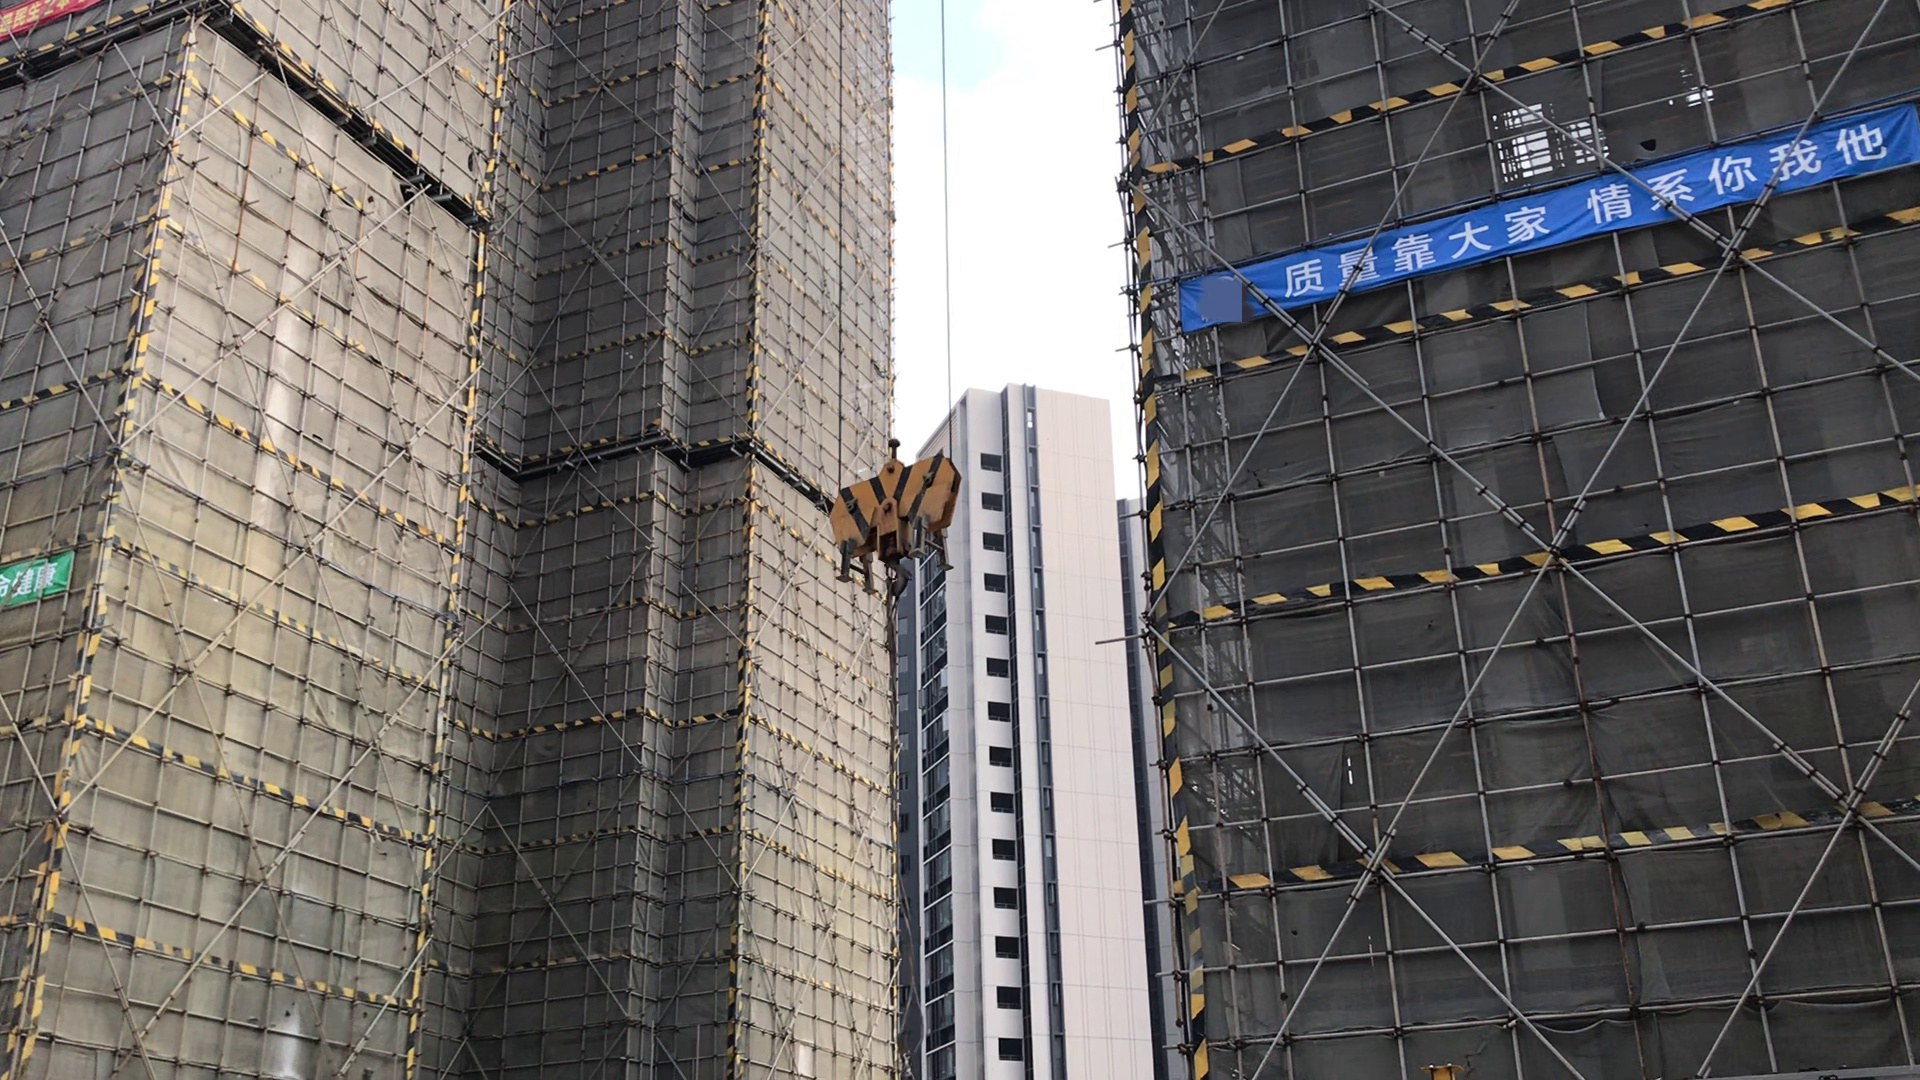hook: (823, 431, 969, 572)
slogan: (1174, 115, 1920, 361), (1, 546, 80, 607)
